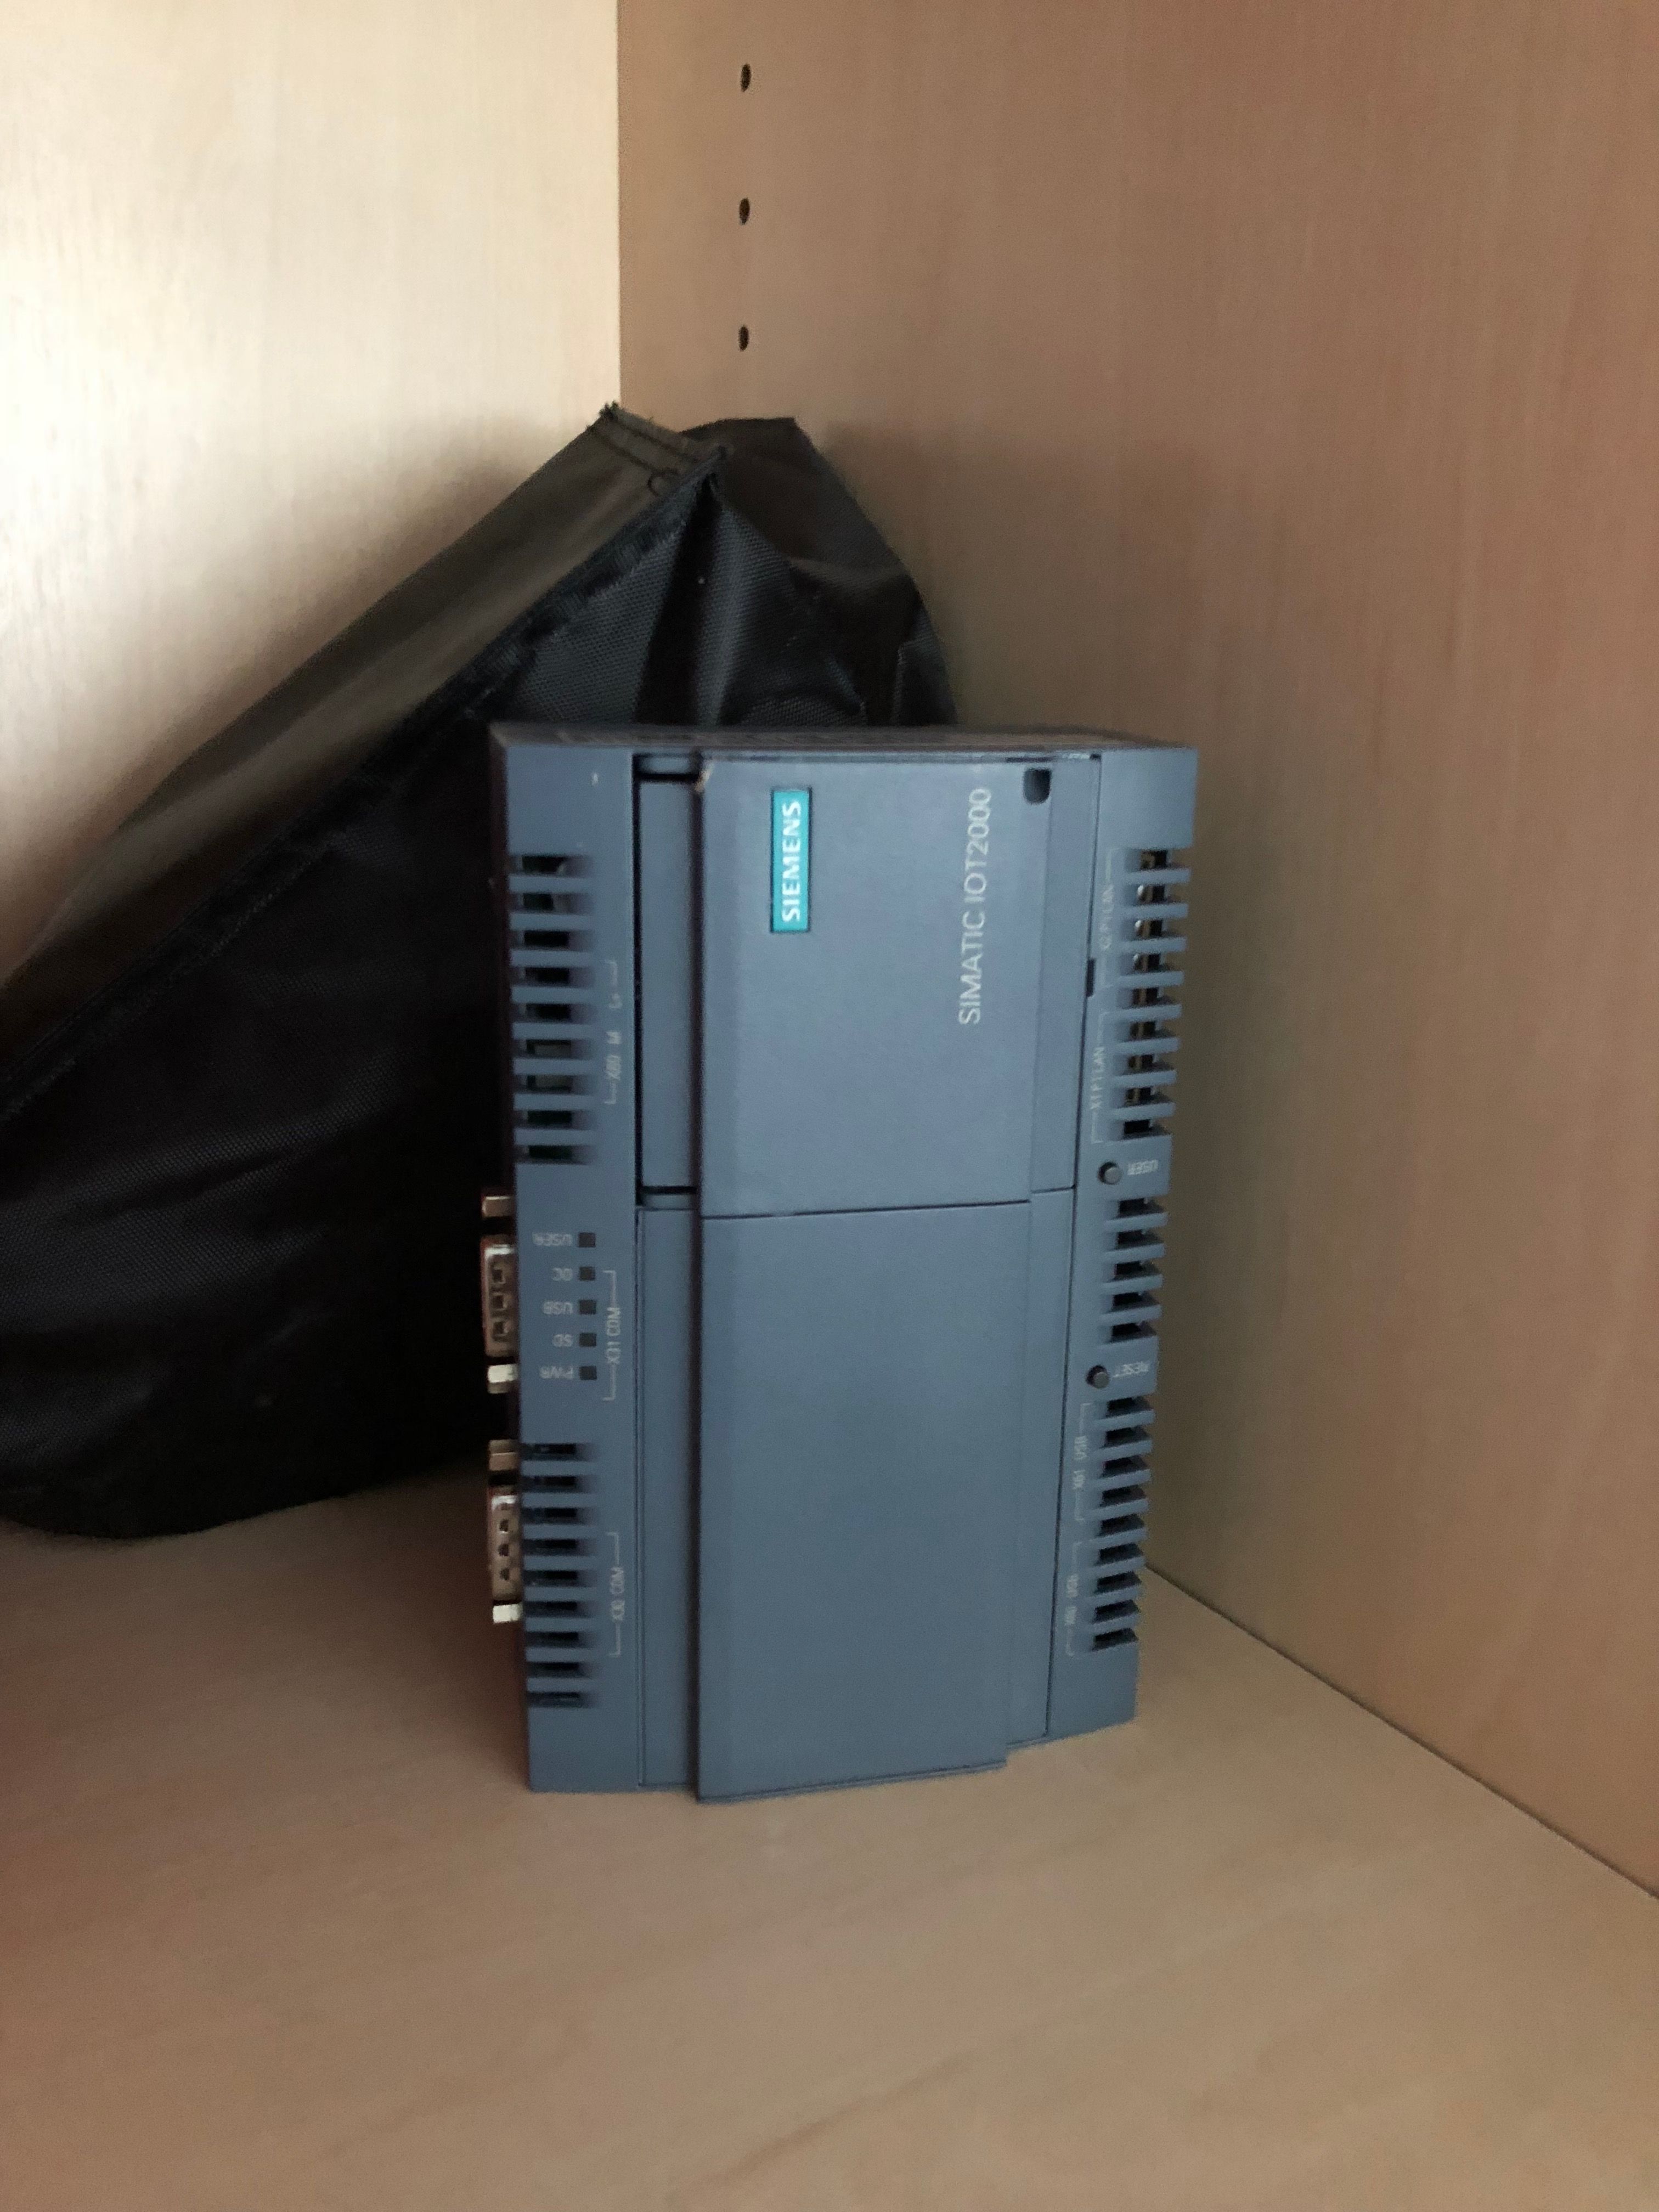device: (479, 719, 1201, 1806)
